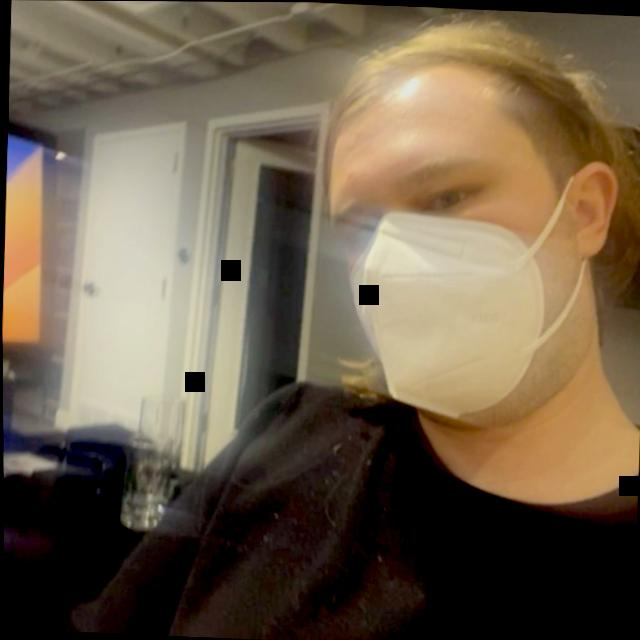Mask: (263, 14, 640, 516)
